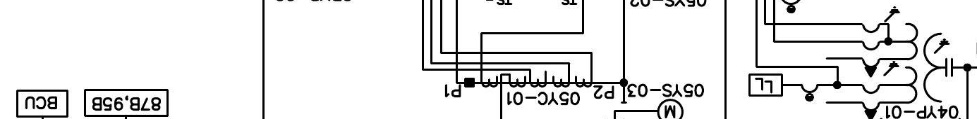BCU: (15, 89, 69, 118)
LL: (748, 73, 784, 97)
